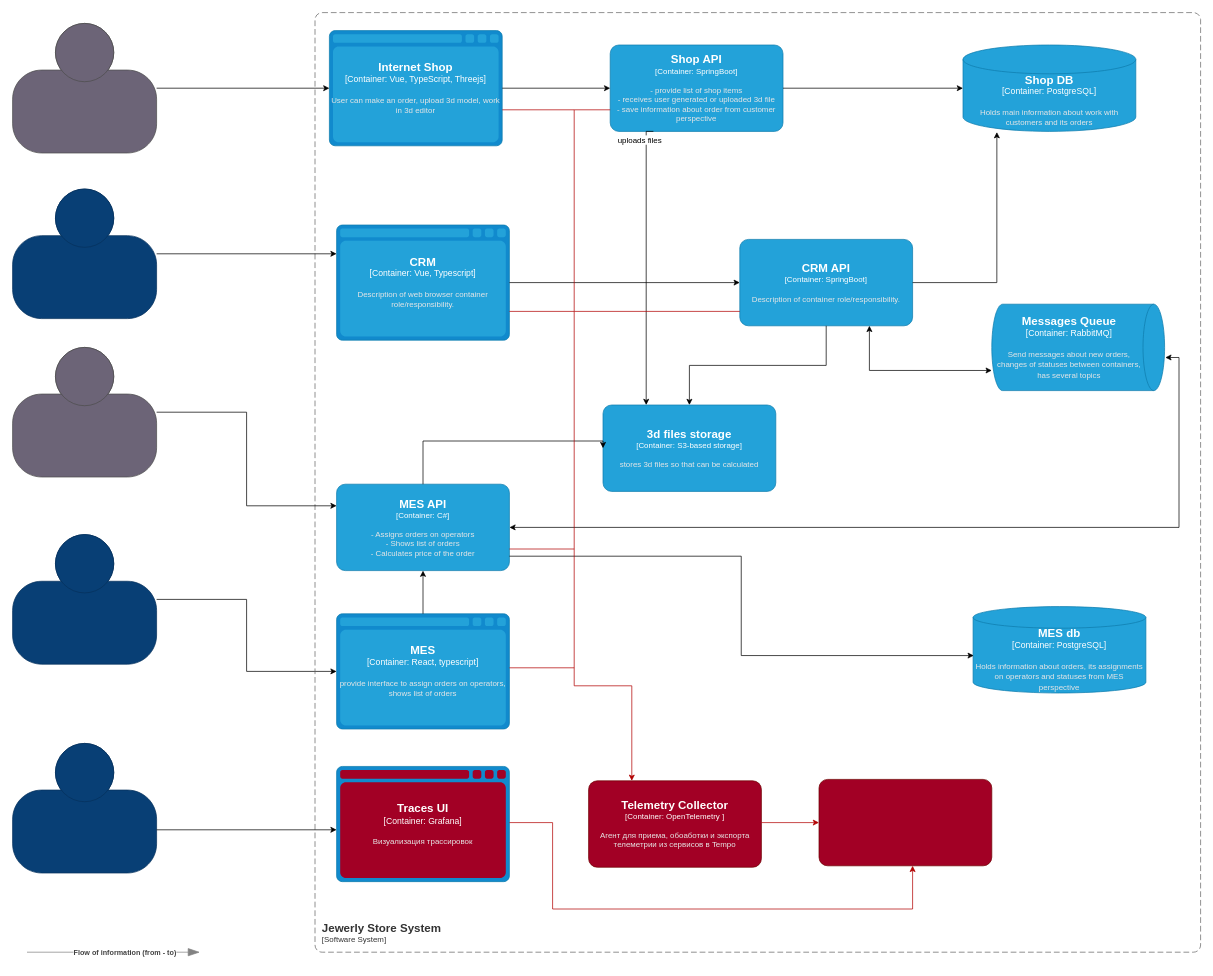
Some shapes in this 1213 by 976 pixel diagram are drawn without their labels. The shapes that lost their labels are listed below. From the top down, each one's centre as x and y in pixels, then its label:
[84,88]: Customer [Person] Description of external person.
[84,253]: Seller [Person] Operates with order, confirms manufacturing for the user
[84,412]: API user [Person] Description of external person.
[84,599]: Operator [Person] Takes order in work, manufactures jewerly
[84,808]: SRE [Person] Uses monitoring system health, manages incidents
[905,822]: Telemetry Storage [Container: Tempo] Хранение и индексация телеметрии
